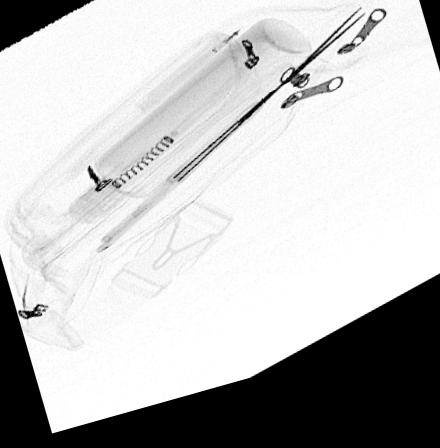Scissors: (92, 24, 369, 262)
